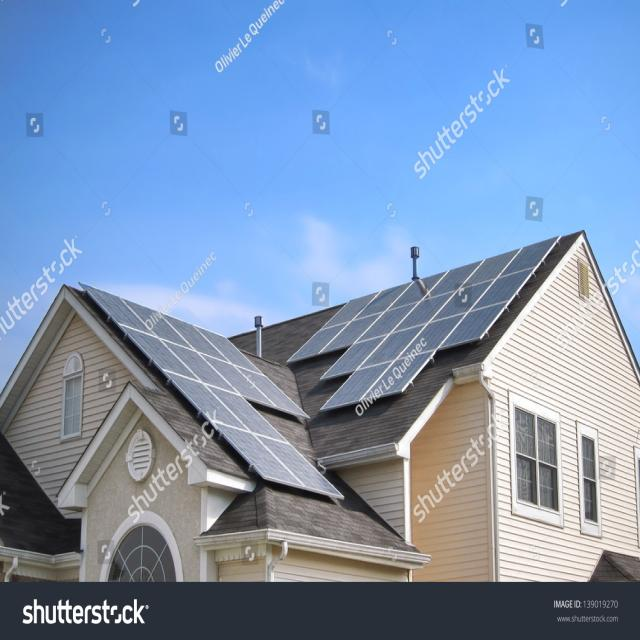clean-solar-panel: (84, 286, 341, 499), (290, 238, 559, 409)
